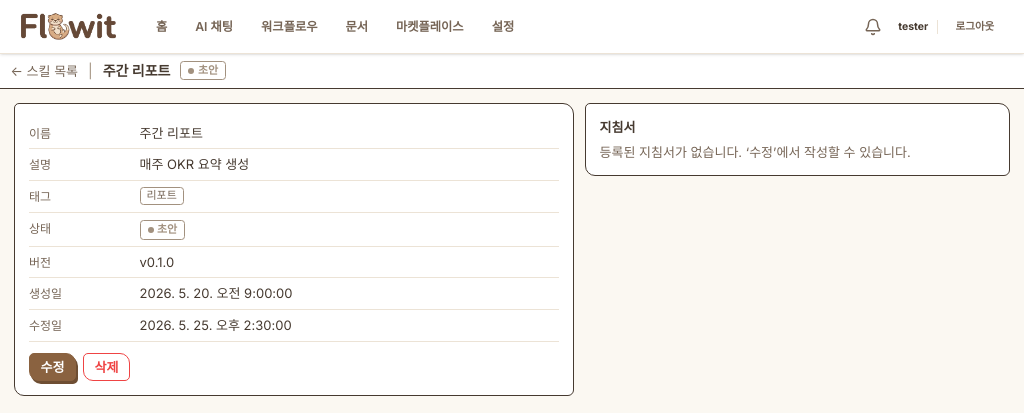
SkillDetailPage › 삭제 확인 단계에서 취소하면 원래로 돌아간다
The image size is (1024, 413).
Click the button "삭제" at (106, 367), box [83, 353, 130, 381]
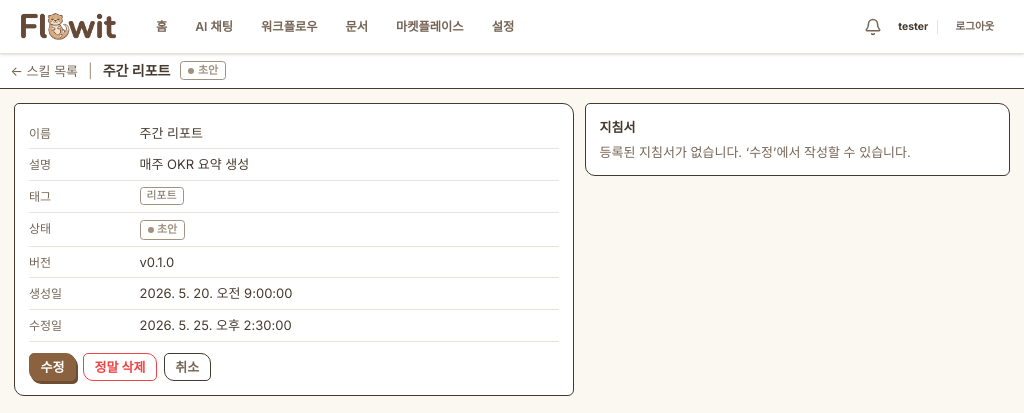
Result: the button "정말 삭제" is shown at [83, 353, 157, 381]
Click the button "취소" at (187, 367), box [164, 353, 211, 381]
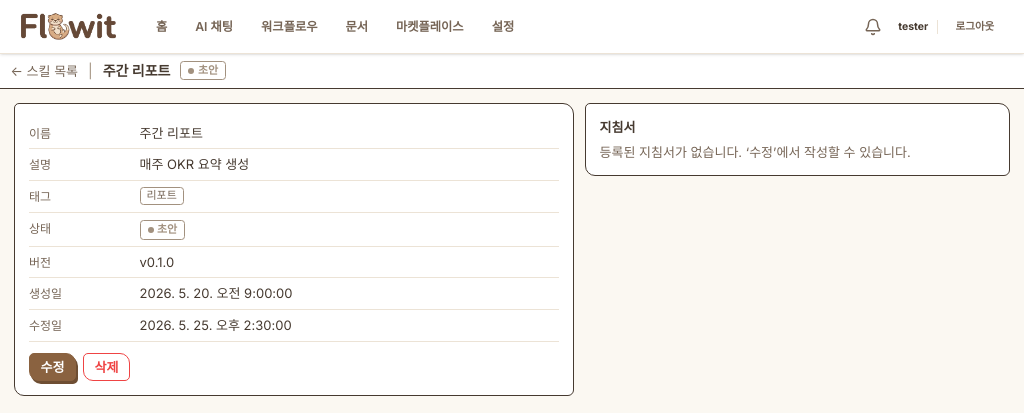
Expected: the button "삭제" is shown, [83, 353, 130, 381]
Result: the button "정말 삭제" is gone
